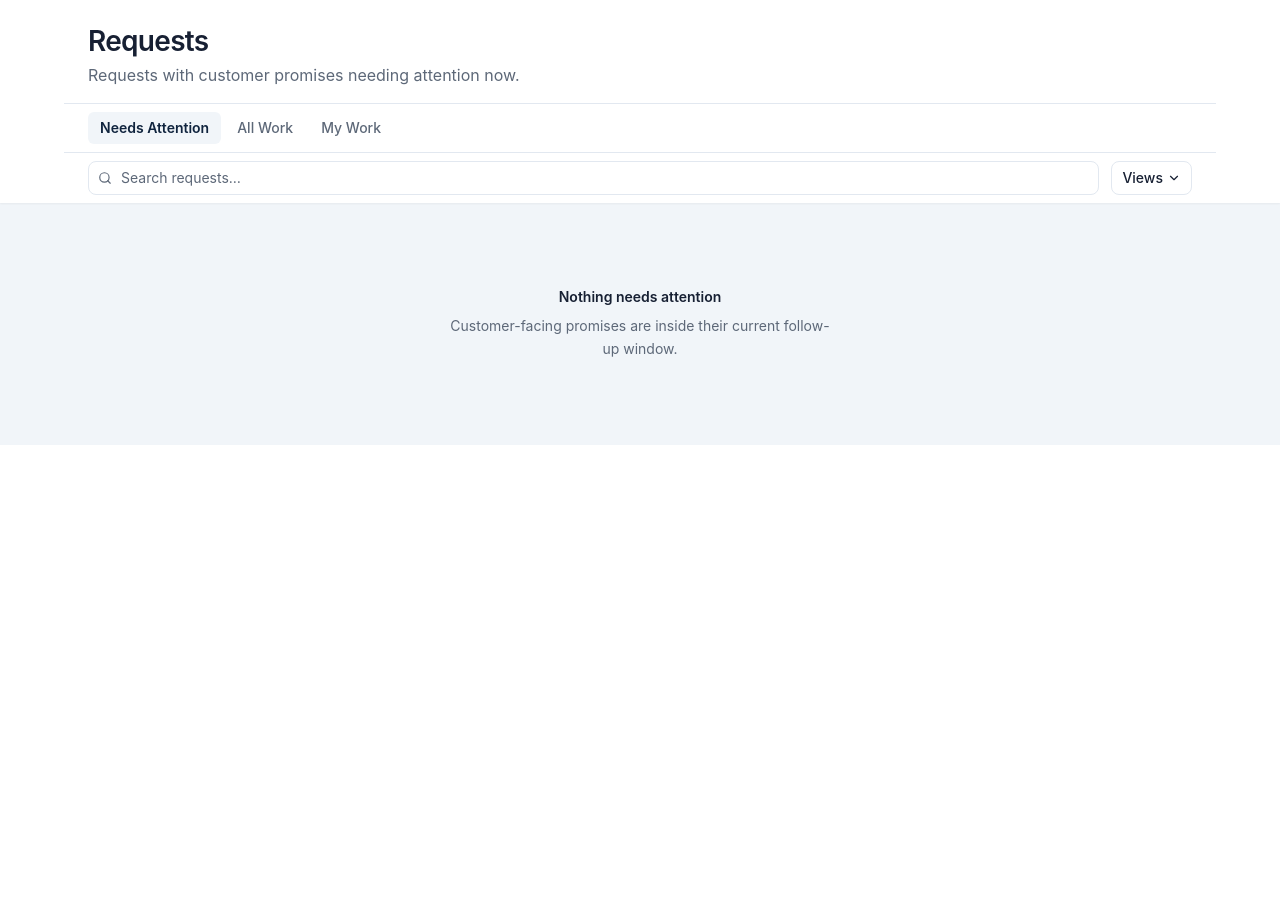
Test: Requests — GAP-044 history entry point › presents as history based on the server's listContext.isHistory, not client historyMode alone
Click the button "Views". click: (1152, 178)
box: [1111,161,1192,195]
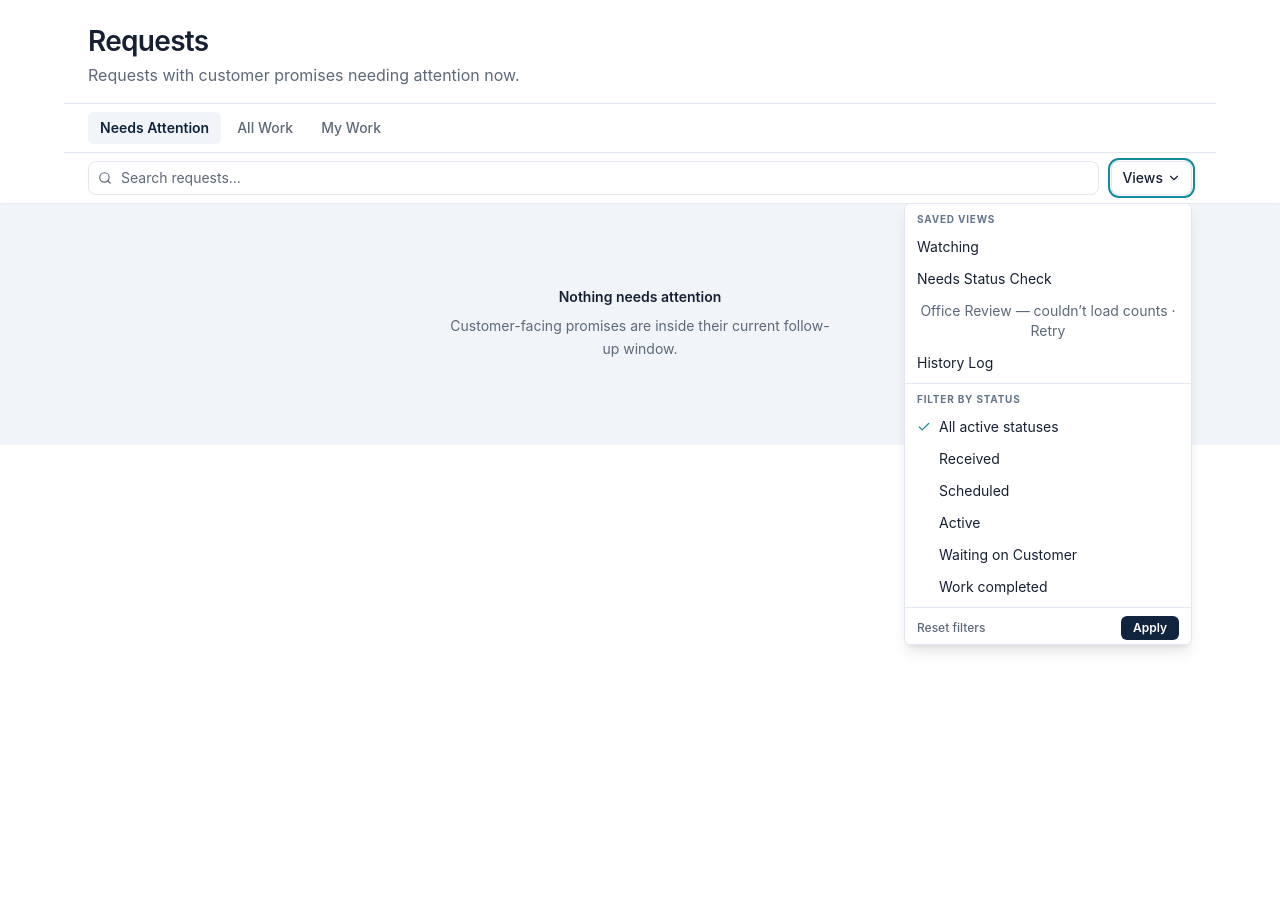
Click the button "History Log". click: (955, 362)
box: [905,347,1191,379]
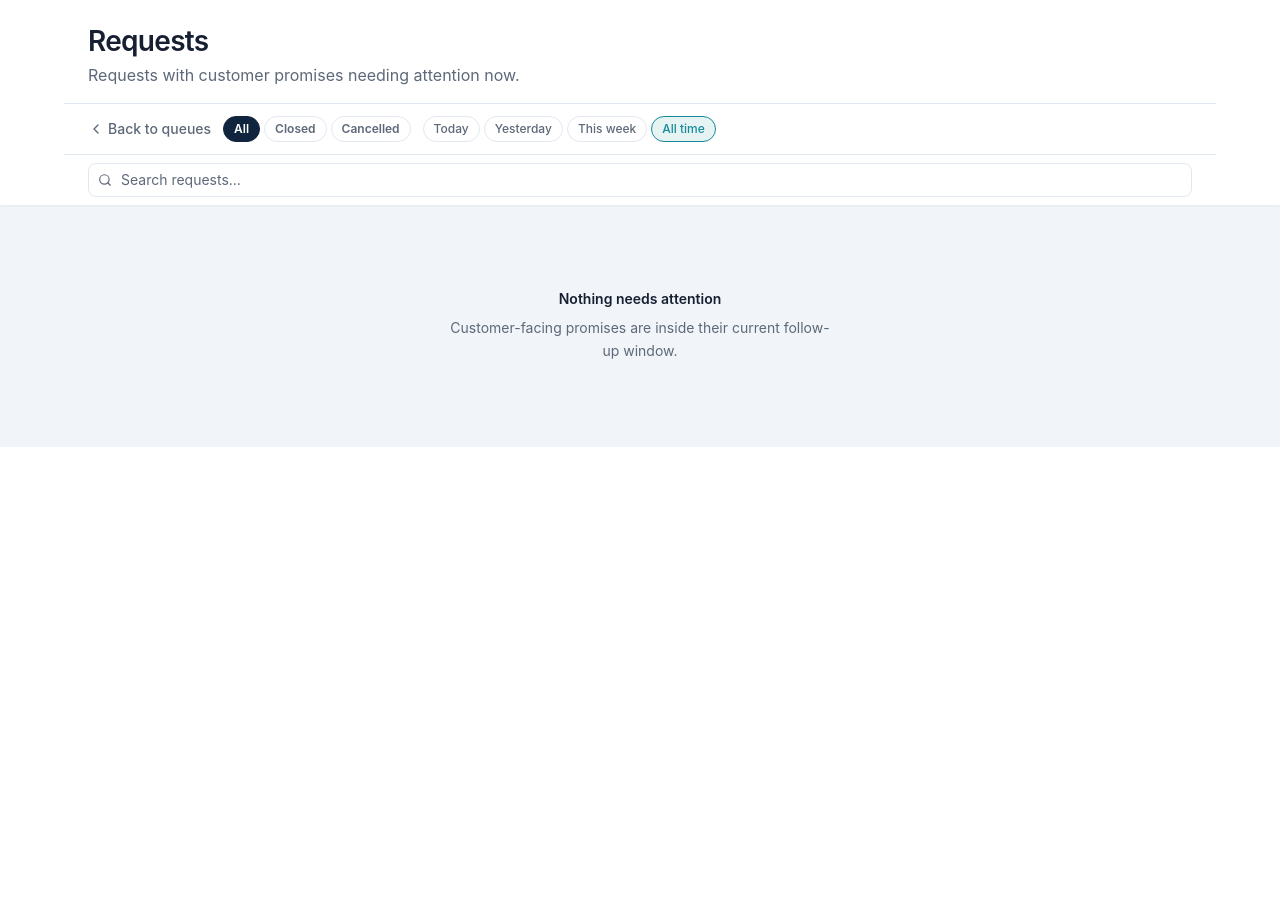
Result: the button "Back to queues" is shown at [88,119,211,139]
